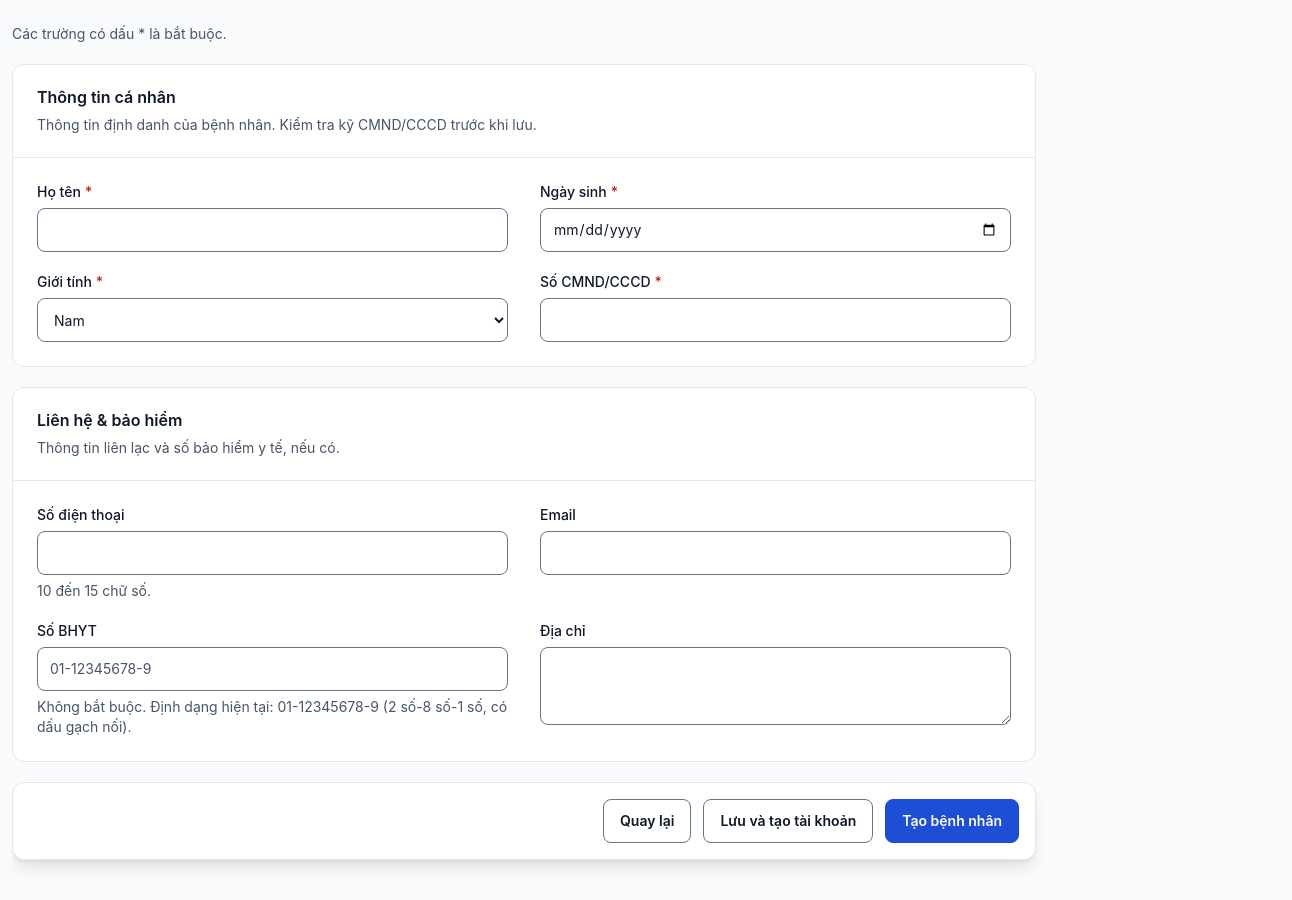
Scenario: PatientForm › shows Vietnamese BHYT guidance on a normal submit instead of the browser pattern popup
The width and height of the screenshot is (1292, 900).
In the field labelled "Họ tên*": (272, 230) [37,208,508,252], type "  Nguyen Van A  "
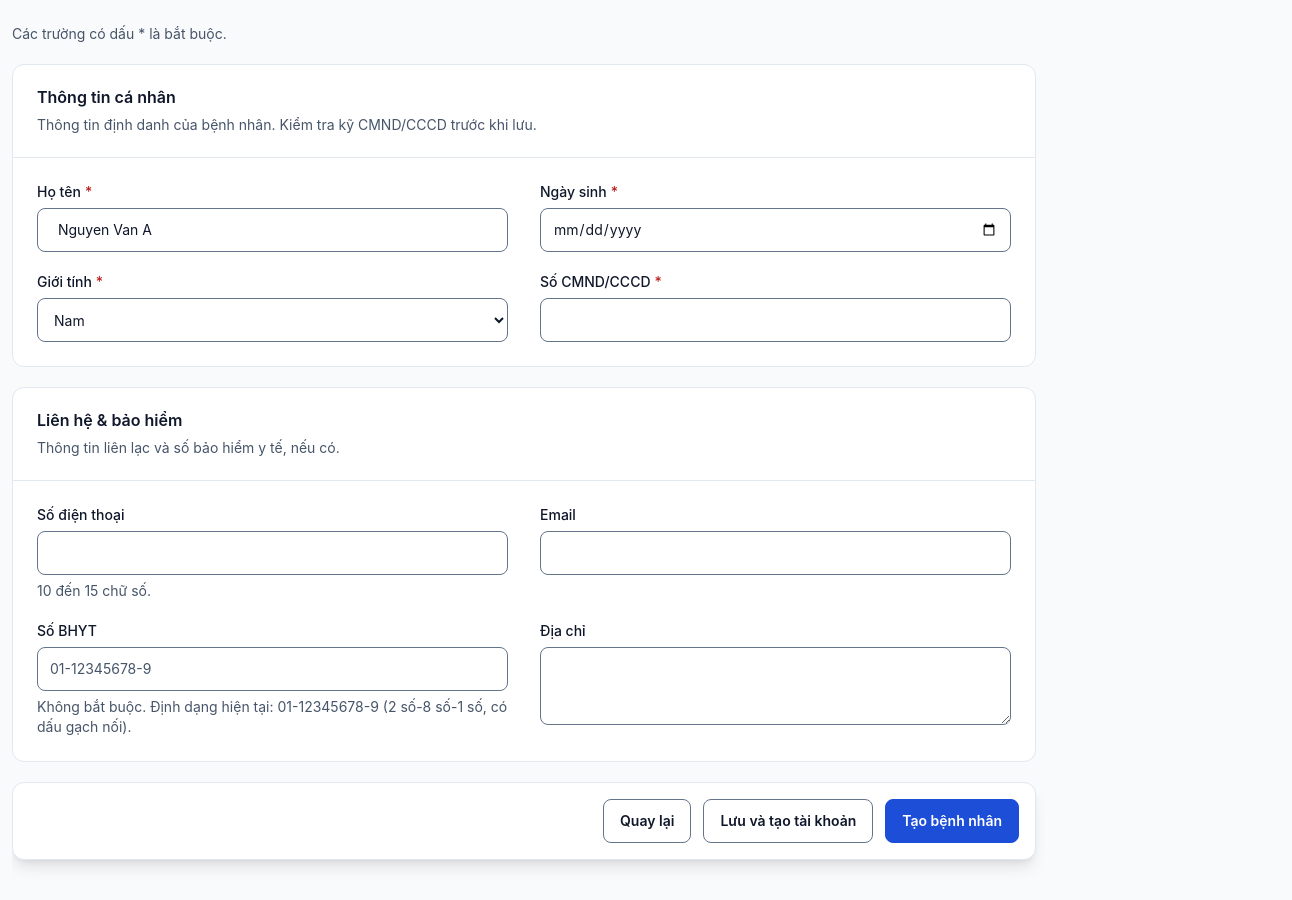
In the date field labelled "Ngày sinh*": (776, 230) [540,208,1011,252], type "1990-01-15"
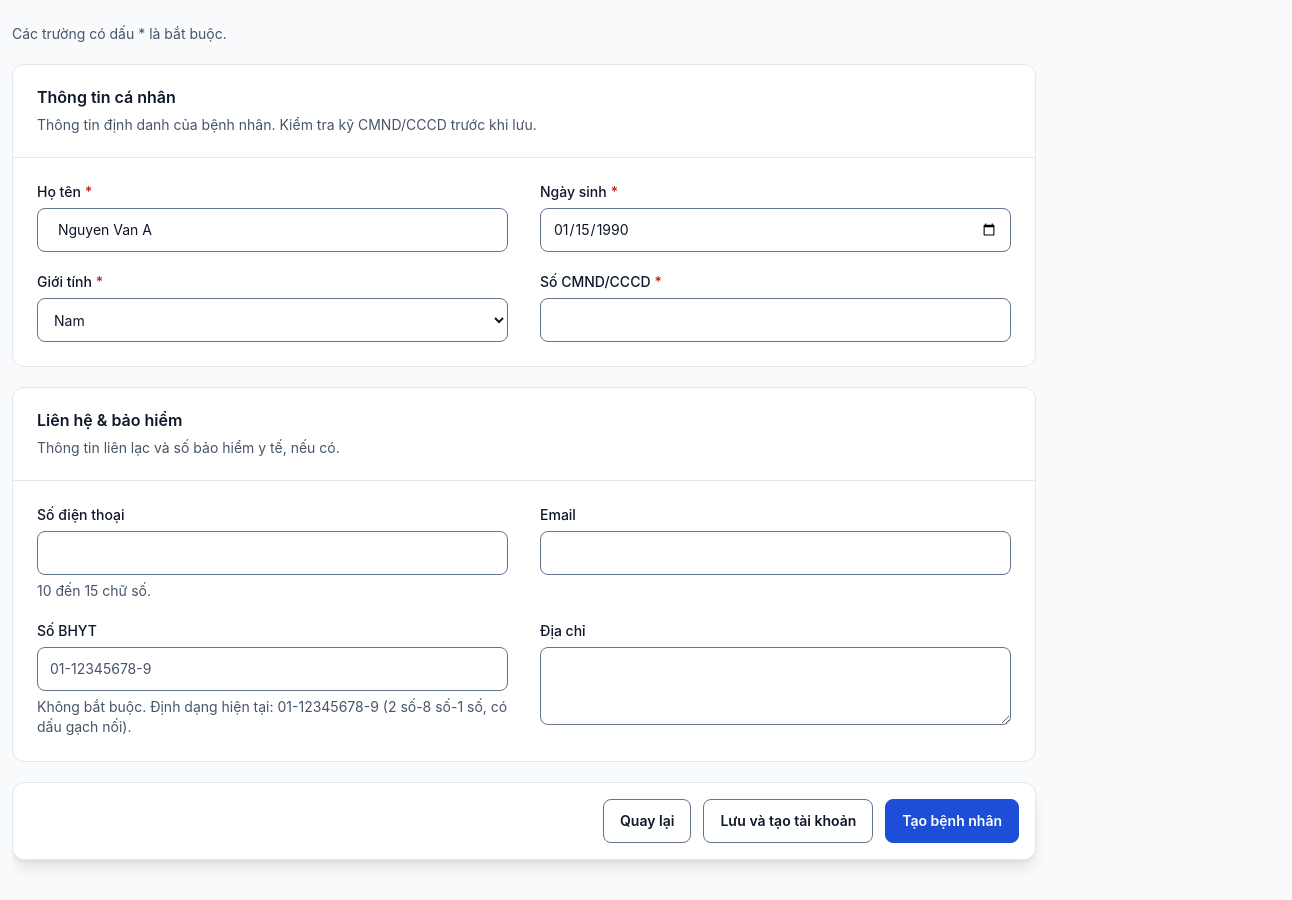
In the field labelled "Số CMND/CCCD*": (776, 320) [540,298,1011,342], type " 001234567890 "
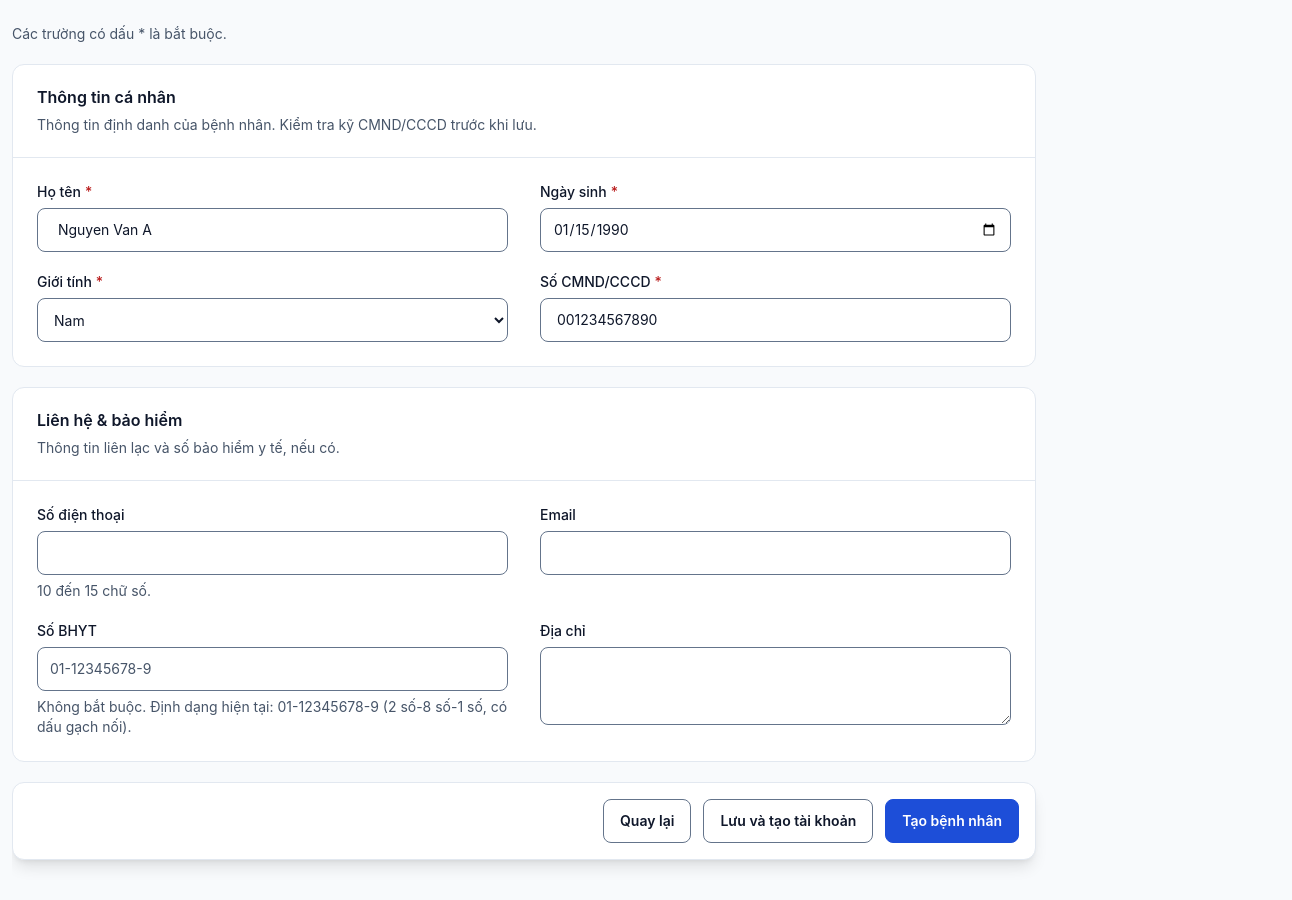
In the field labelled "Số BHYT": (272, 669) [37,647,508,691], type "1234567890"
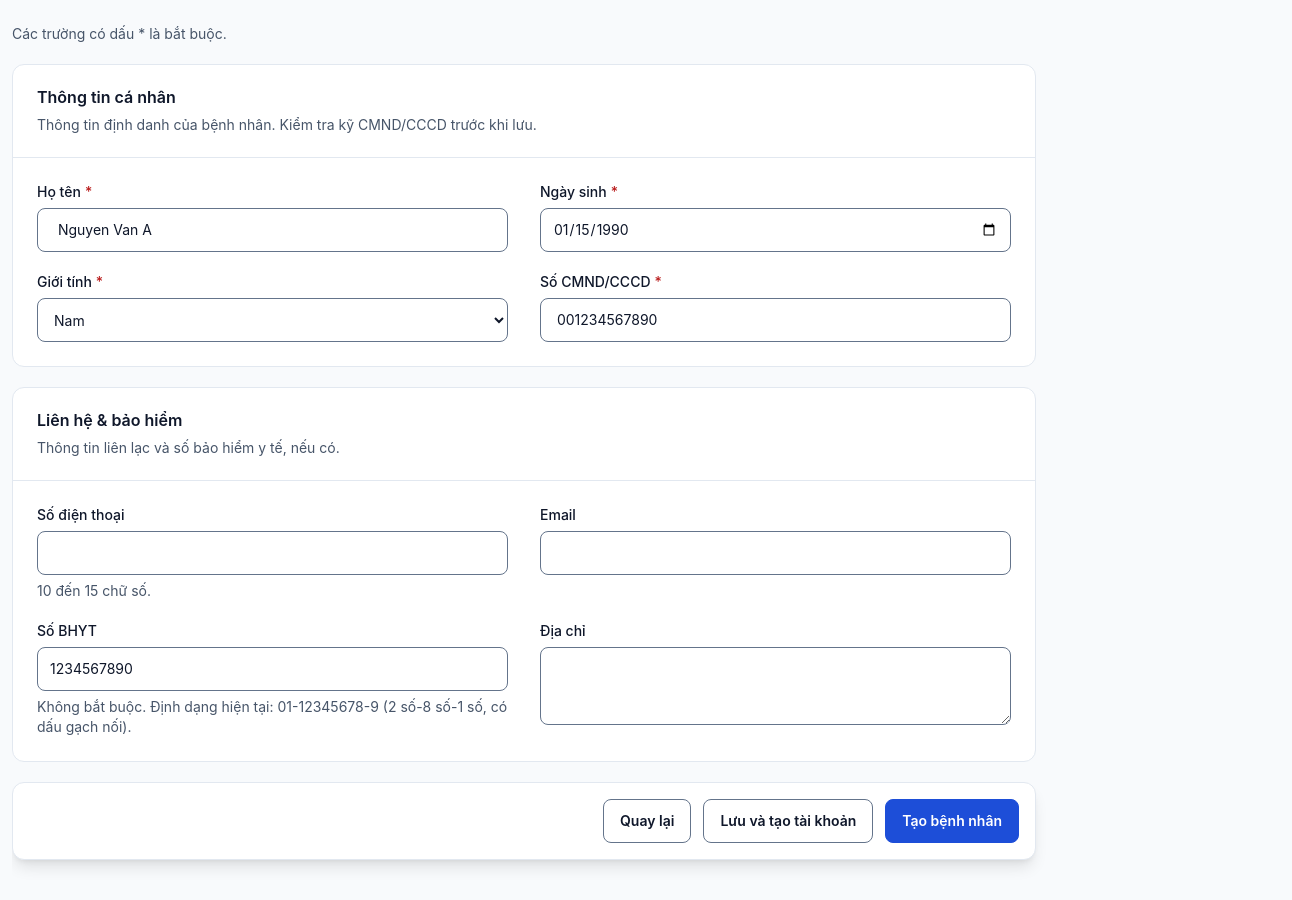
Click the button "Tạo bệnh nhân": (952, 821) [885,799,1019,843]
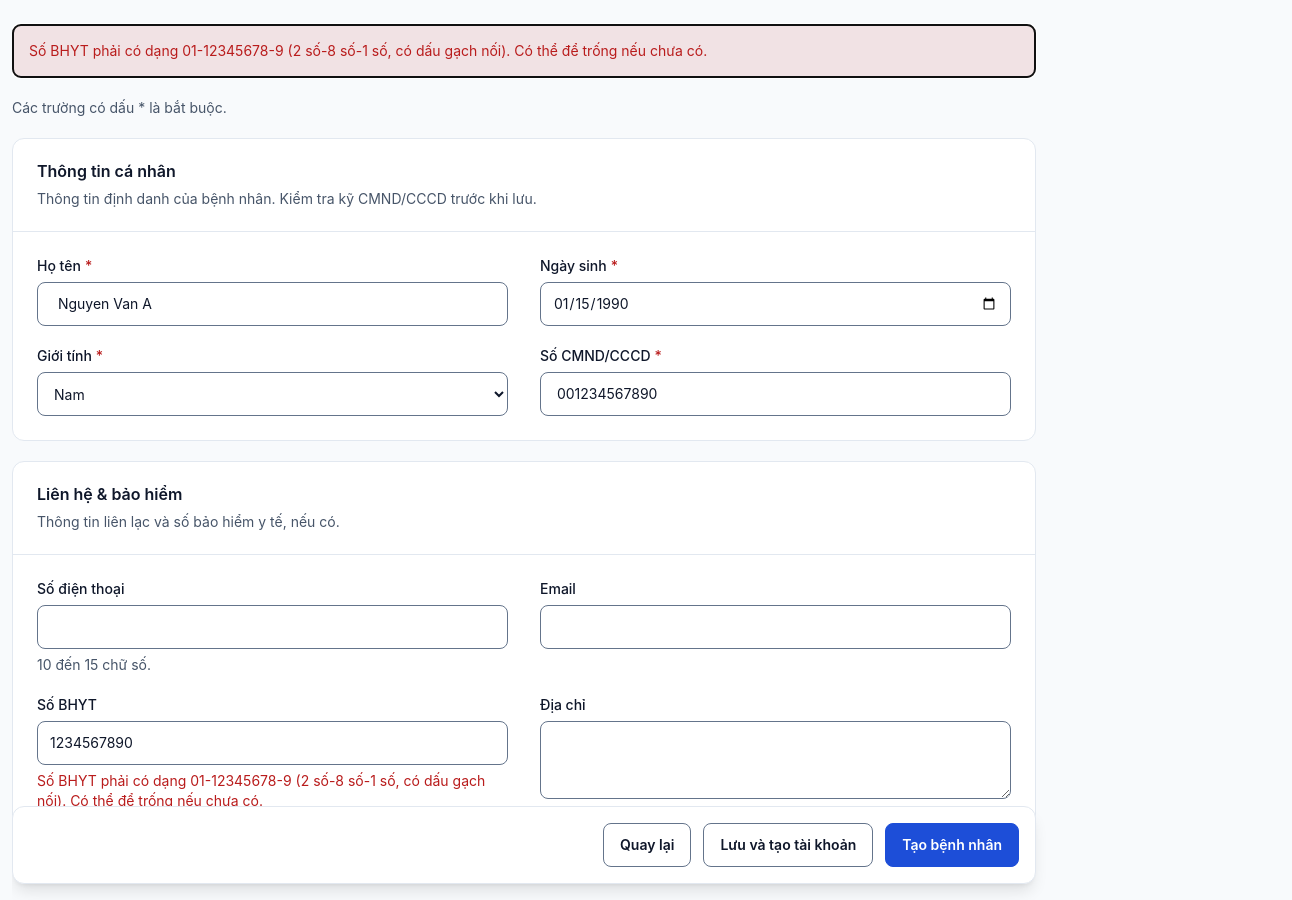
Expected: the message named "Không thể lưu bệnh nhân" shows "BHYT", [29,42,707,59]
